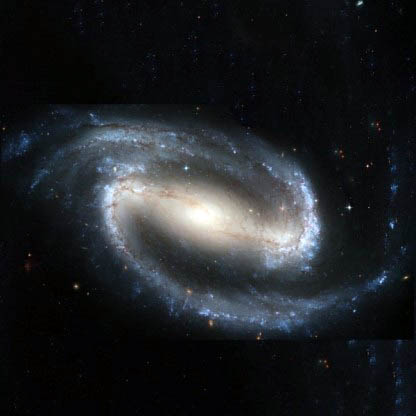NGC 1300: (17, 107, 397, 334)
